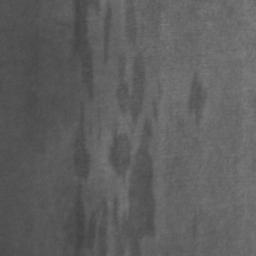Inclusion: (72, 118, 159, 256), (72, 0, 111, 96), (116, 54, 147, 123), (73, 108, 90, 179), (188, 73, 209, 123), (124, 0, 136, 44)
